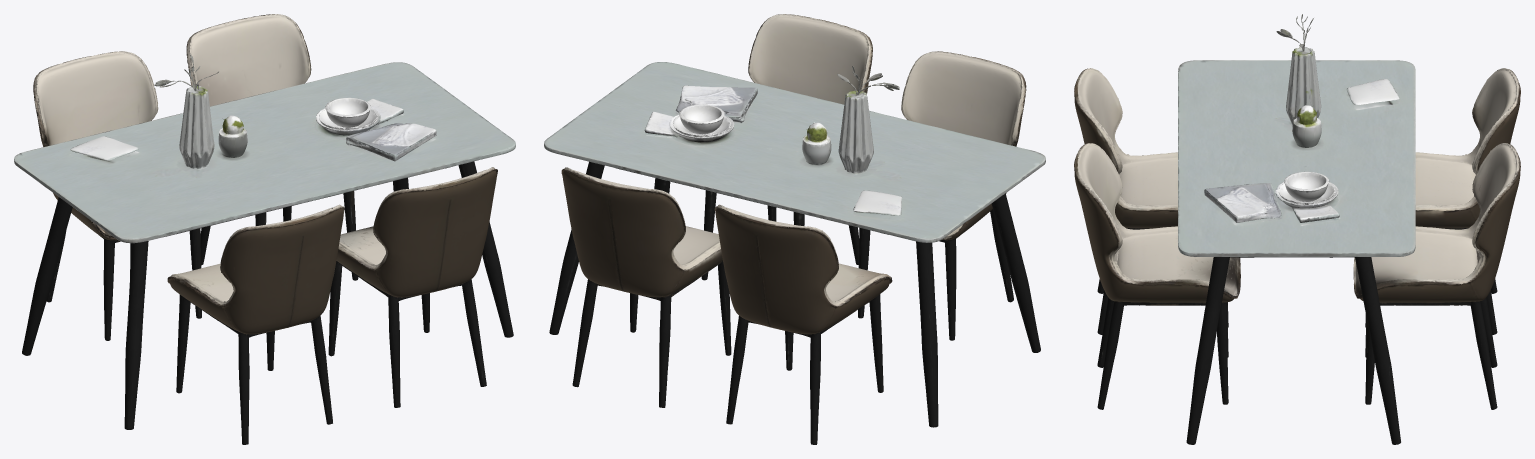
Rendered from diningsetsteinarwhite.glb.
The picture shows the model from 3 angles, left to right: view 1: azimuth 30°, elevation 25°; view 2: azimuth 150°, elevation 25°; view 3: azimuth 270°, elevation 25°; orthographic projection.
Parts seen in each view (by area): view 1: node_0; view 2: node_0; view 3: node_0.
Boxes of the visible parts, left/top/right/bottom form: node_0: left=14, top=14, right=515, bottom=444; node_0: left=544, top=14, right=1045, bottom=444; node_0: left=1074, top=14, right=1520, bottom=444.
Bounding box in the file's own units: 0.9174 × 0.6651 × 0.8959.
1 material, 1 textured.
